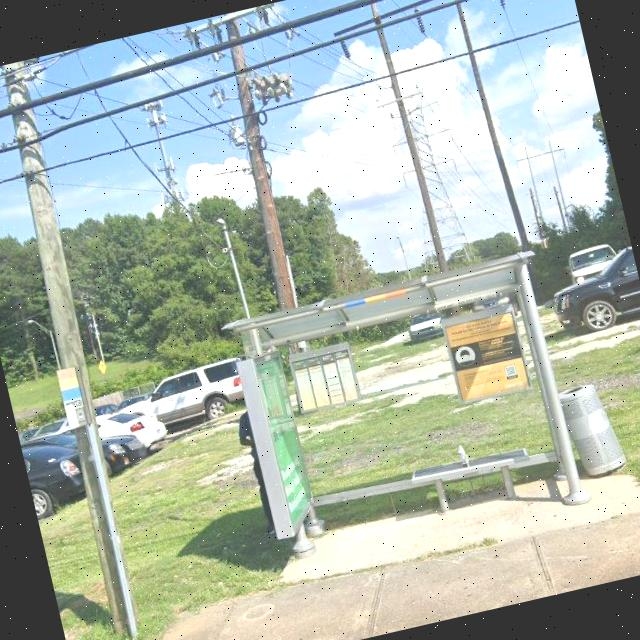seating: (408, 442, 540, 522)
shelter: (220, 249, 596, 566)
trash_can: (558, 378, 628, 482)
